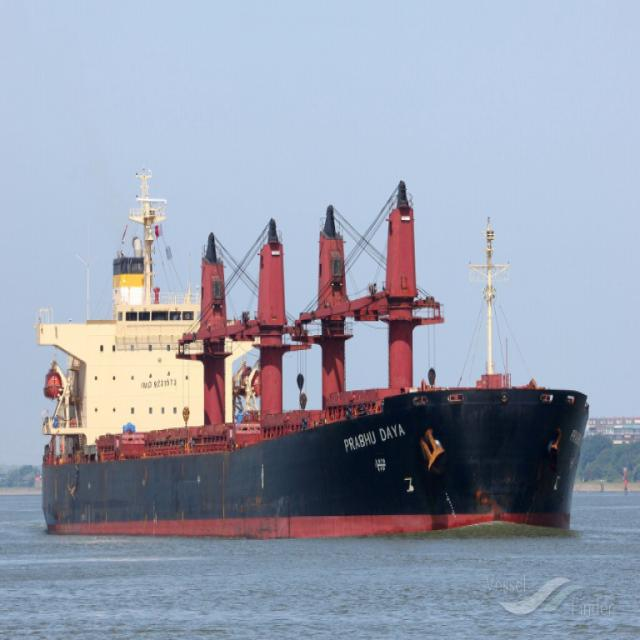OCR: (336, 423, 407, 459), (136, 371, 179, 401)
